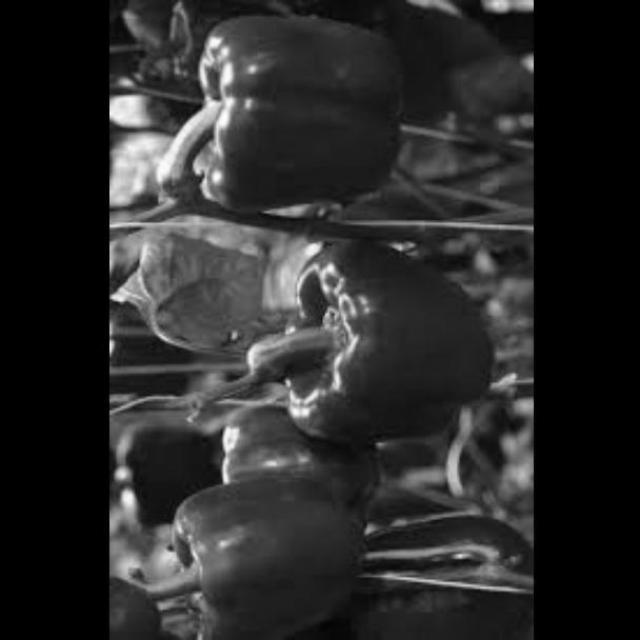bell pepper: (264, 237, 496, 449), (188, 10, 408, 222), (171, 478, 368, 640), (345, 514, 531, 640), (214, 404, 382, 522)
